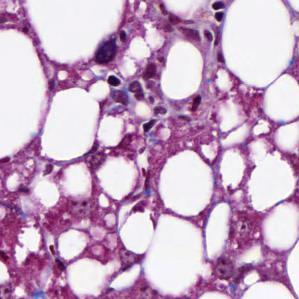inflammation: (90, 32, 126, 69)
